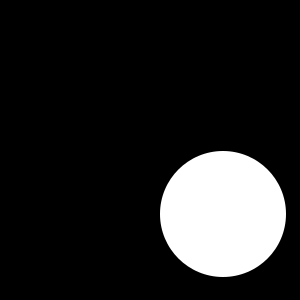rectangle: (160, 151, 286, 277)
